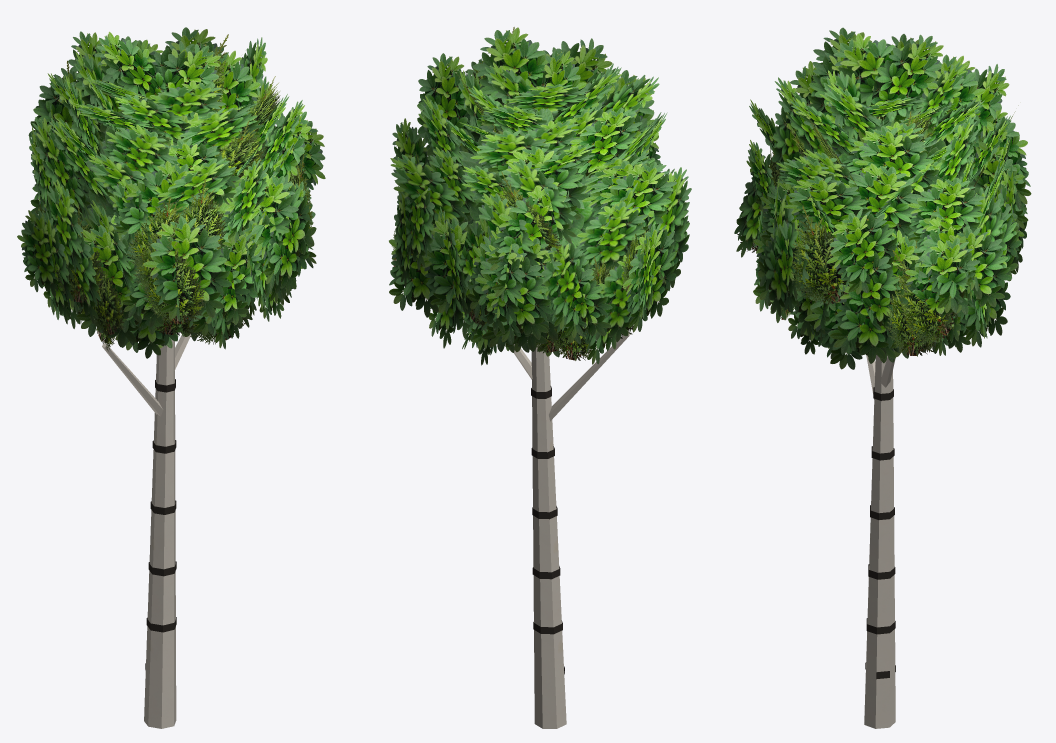
The model's file is tree_birch_01_real.gltf.
The picture shows the model from 3 angles, left to right: view 1: azimuth 30°, elevation 25°; view 2: azimuth 150°, elevation 25°; view 3: azimuth 270°, elevation 25°; orthographic projection.
Parts seen in each view (by area): view 1: tree_birch_01; view 2: tree_birch_01; view 3: tree_birch_01.
Boxes of the visible parts, x1,y1,x2,y2 form: tree_birch_01: [17, 27, 325, 728]; tree_birch_01: [389, 27, 691, 728]; tree_birch_01: [734, 27, 1031, 728].
Bounding box in the file's own units: 3.14 × 6.78 × 2.85.
Materials: 3 (3 with a texture image).
